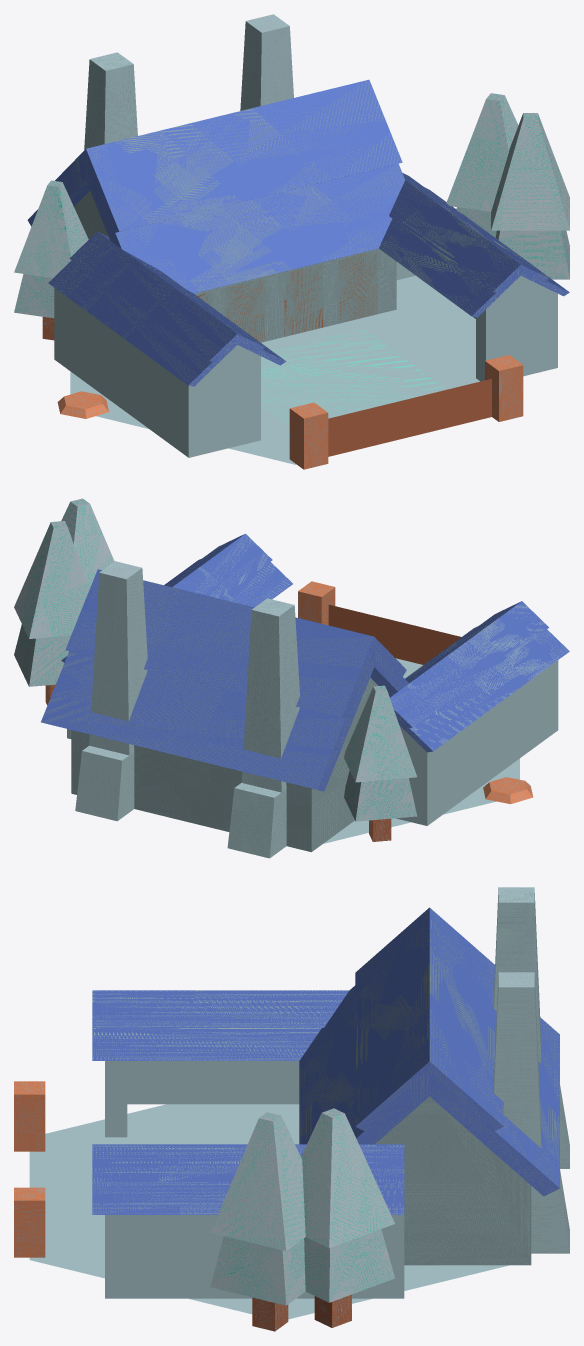
The model's file is Bathhouse.fbx.
The picture shows the model from 3 angles, top to bottom: view 1: azimuth 30°, elevation 25°; view 2: azimuth 150°, elevation 25°; view 3: azimuth 270°, elevation 25°; orthographic projection. The views are drawn at different scales.
Parts seen in each view (by area): view 1: Group3, Model, Group11, Group16, Group5, Group10, Group7, Group12, Group17, Group8, Group2, Group6 (+2 smaller); view 2: Group3, Group11, Group4, Group6, Group10, Group2, Group8, Group16, Group5, Group7, Group13, Model (+1 smaller); view 3: Group3, Model, Group11, Group7, Group2, Group16, Group15, Group4, Group10, Group6, Group5, Group12 (+2 smaller).
Part boxes in pixels (box(x1,y1,x2,y2)): Group3: box(27, 79, 404, 342); Model: box(70, 275, 479, 464); Group11: box(48, 231, 286, 386); Group16: box(379, 173, 569, 317); Group5: box(289, 355, 523, 469); Group10: box(58, 291, 184, 454); Group7: box(491, 113, 569, 279); Group12: box(180, 345, 260, 457); Group17: box(476, 276, 557, 381); Group8: box(14, 180, 88, 340); Group2: box(446, 93, 518, 237); Group6: box(84, 52, 137, 149); Group3: box(41, 569, 408, 852); Group11: box(389, 601, 569, 752); Group4: box(75, 561, 147, 821); Group6: box(227, 598, 299, 858); Group10: box(431, 663, 553, 822); Group2: box(14, 521, 89, 705); Group8: box(344, 685, 417, 841); Group16: box(61, 533, 292, 662); Group5: box(298, 581, 461, 664); Group7: box(61, 498, 114, 589); Group13: box(396, 725, 431, 825); Model: box(323, 658, 519, 843); Group3: box(299, 907, 559, 1265); Model: box(29, 1104, 508, 1319); Group11: box(92, 990, 349, 1060); Group7: box(210, 1112, 305, 1331); Group2: box(301, 1108, 394, 1327); Group16: box(92, 1144, 404, 1214); Group15: box(114, 1215, 394, 1298); Group4: box(494, 972, 569, 1253); Group10: box(127, 1061, 299, 1104); Group6: box(494, 887, 569, 1168); Group5: box(14, 1081, 45, 1257); Group12: box(105, 1061, 127, 1137).
Size of the model in its own units: 1.05 by 0.46 by 0.8864.
